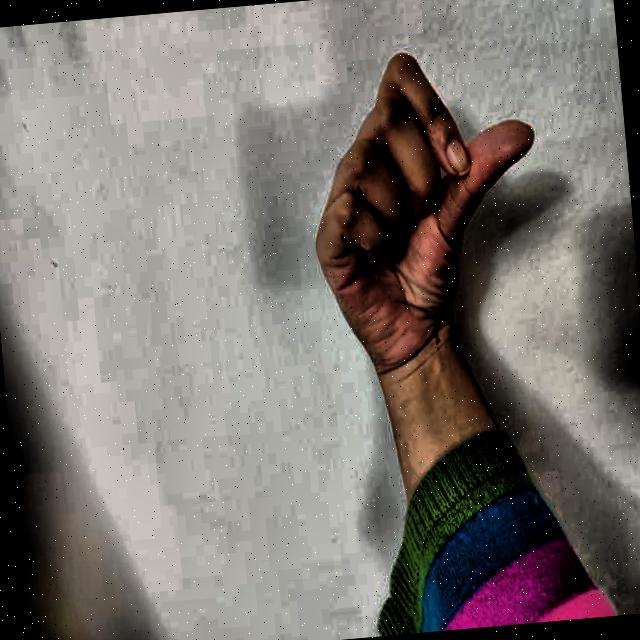Ay: (274, 21, 575, 399)
